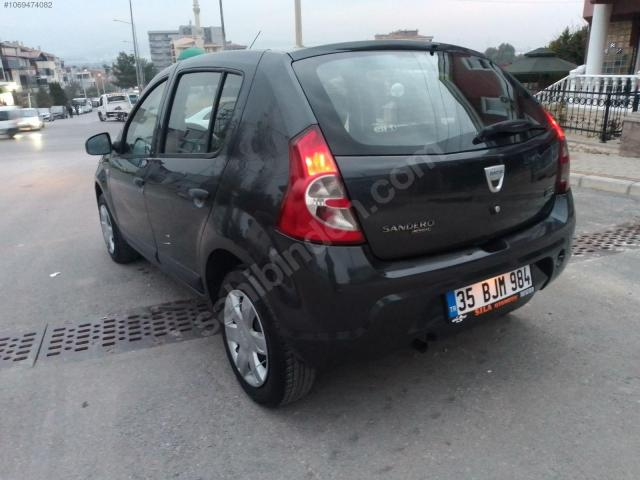plaka: (447, 265, 533, 322)
